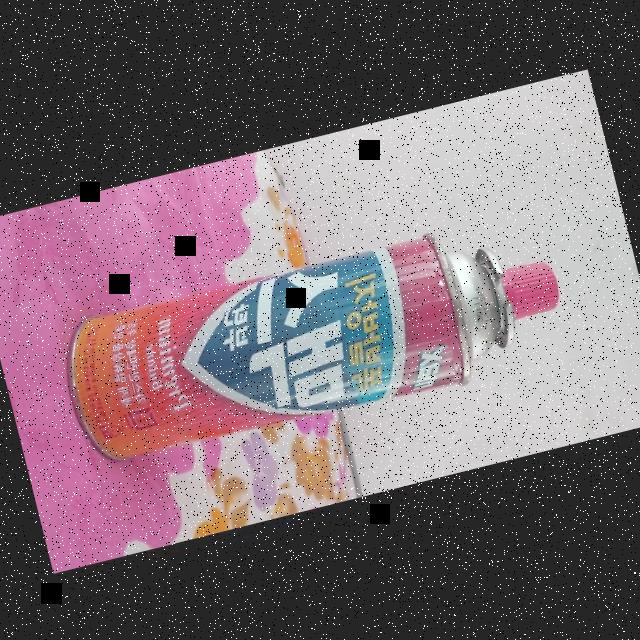chemical_spray_can: (32, 162, 584, 490)
